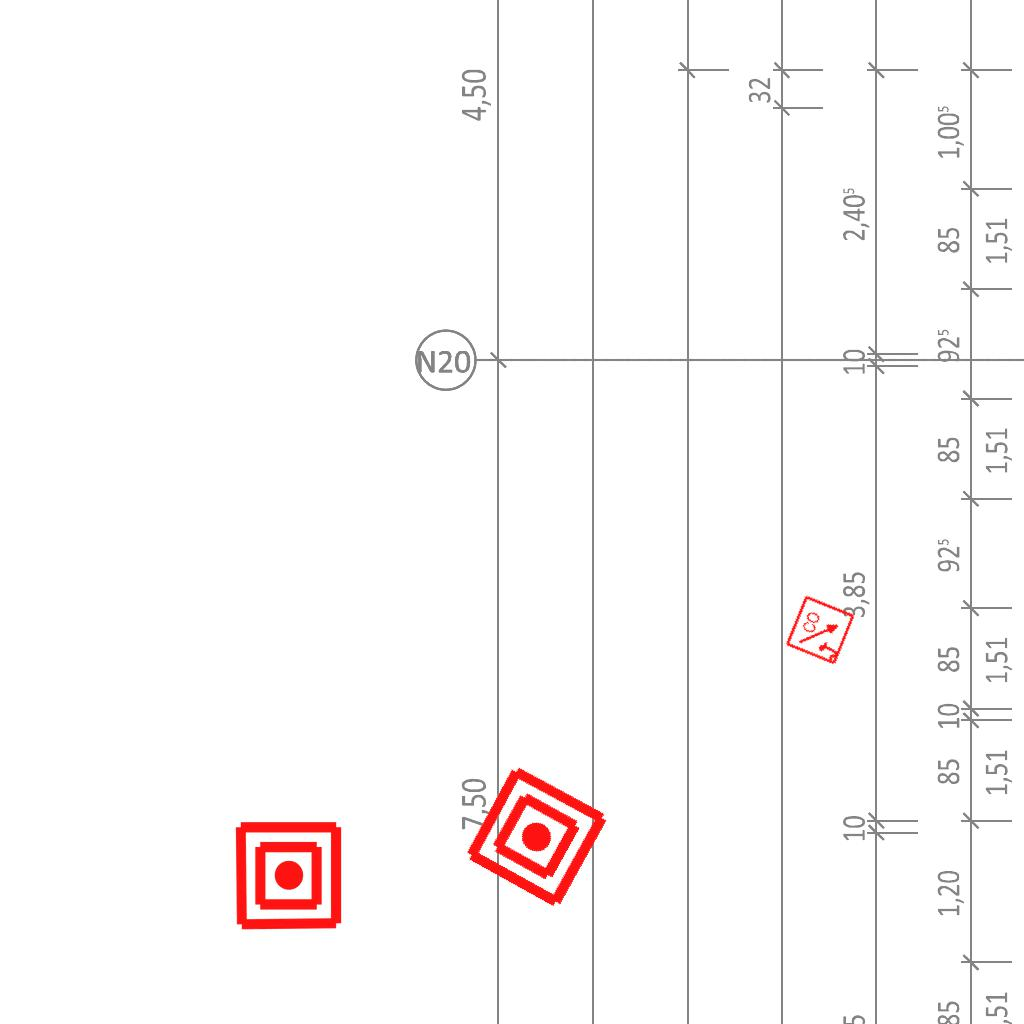NAM-Nichtautomatischer_Melder: (459, 759, 614, 914), (232, 819, 345, 932)
ROA_Rauchmelder_optisch_mit_Signalgeber_(Sockelsirene): (784, 593, 858, 667)
